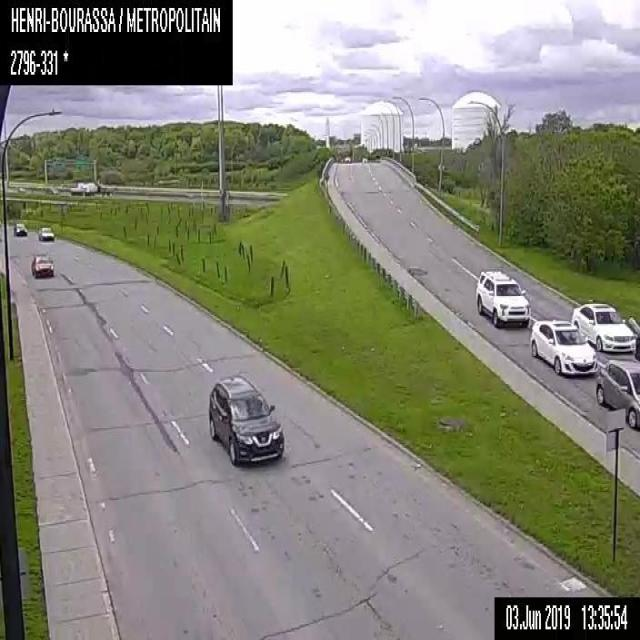vehicle: (207, 372, 284, 465), (529, 319, 595, 375), (571, 300, 635, 350), (595, 358, 639, 429), (476, 270, 530, 327), (30, 253, 53, 278), (37, 226, 54, 241), (12, 221, 27, 236), (344, 155, 350, 162), (362, 157, 366, 161)
